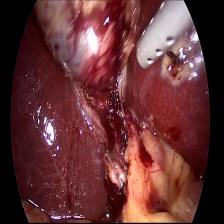Irrigator: (136, 1, 190, 77)
